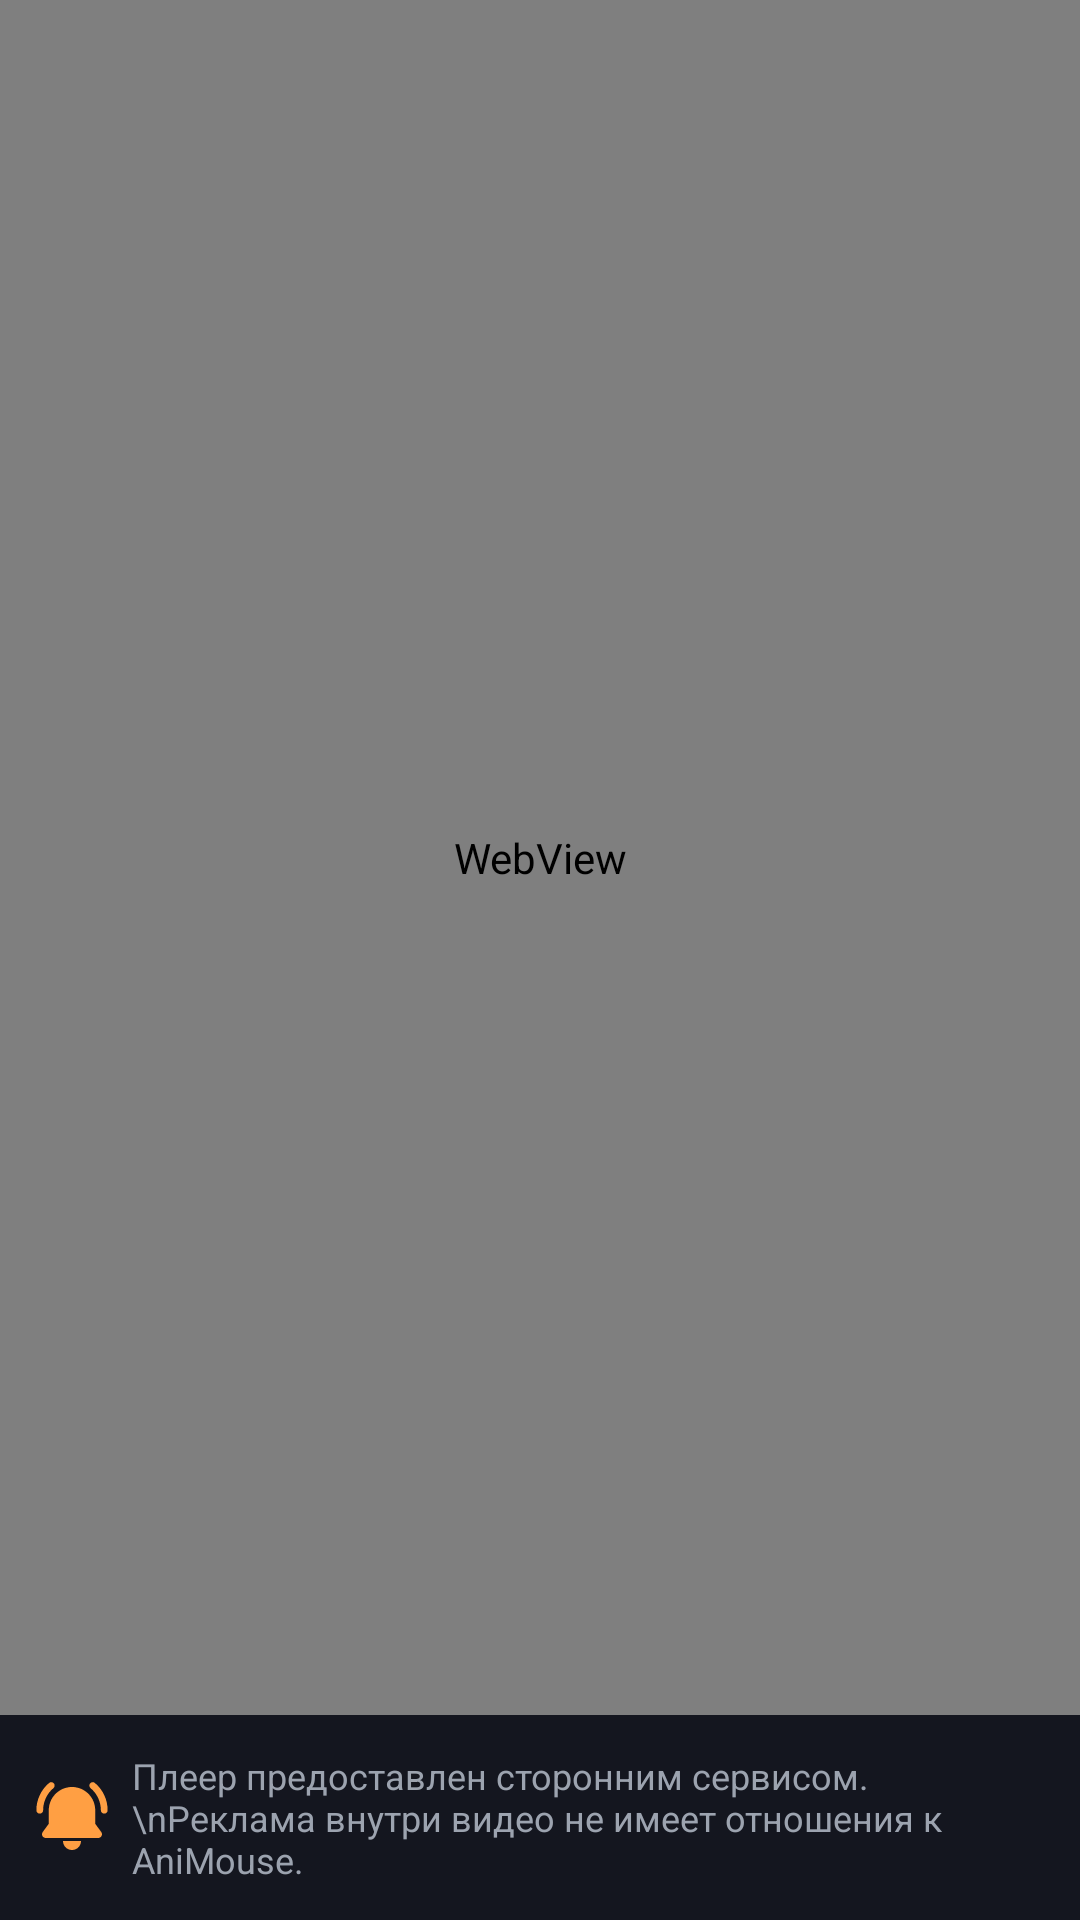

Icons on this 1080w x 1920h Android screen, each with the point to tap as [x,y]:
notification bell alarm sol: [72,1816]
